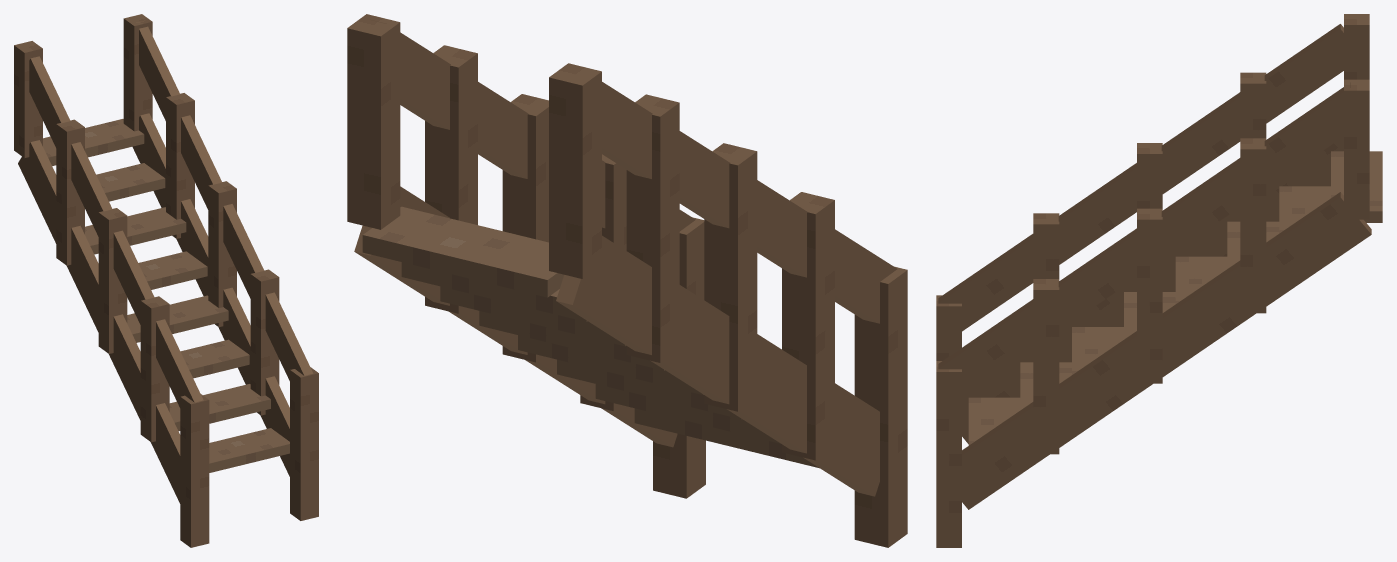
Rendered from steps.gltf.
3 renders of one model, left to right at view 1: azimuth 30°, elevation 25°; view 2: azimuth 150°, elevation 25°; view 3: azimuth 270°, elevation 25°, orthographic. The views are drawn at different scales.
Parts seen in each view (by area): view 1: cube (×22); view 2: cube (×22); view 3: cube (×22).
Boxes of the visible parts, left/top/right/bottom form: cube (×22): left=14, top=14, right=318, bottom=547; cube (×22): left=347, top=14, right=907, bottom=547; cube (×22): left=936, top=14, right=1382, bottom=547.
Bounding box in the file's own units: 0.875 × 2.44 × 2.16.
1 material, 1 textured.
